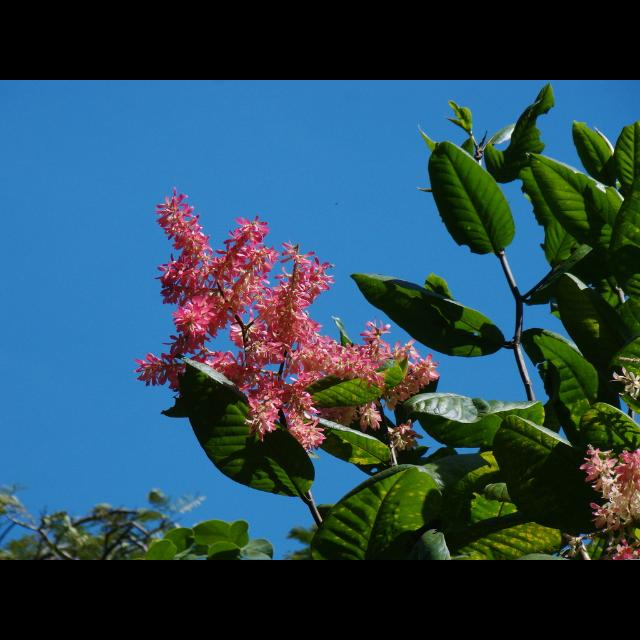Flower: (133, 180, 333, 398), (336, 314, 438, 448), (245, 376, 327, 456), (581, 439, 639, 525), (285, 318, 329, 384), (610, 360, 640, 402), (612, 540, 638, 560)
